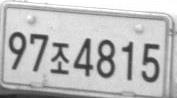1: (119, 40, 139, 81)
4: (72, 37, 94, 77)
5: (140, 42, 160, 82)
7: (29, 32, 49, 73)
8: (95, 38, 116, 79)
9: (7, 31, 26, 70)
조: (49, 42, 69, 74)
